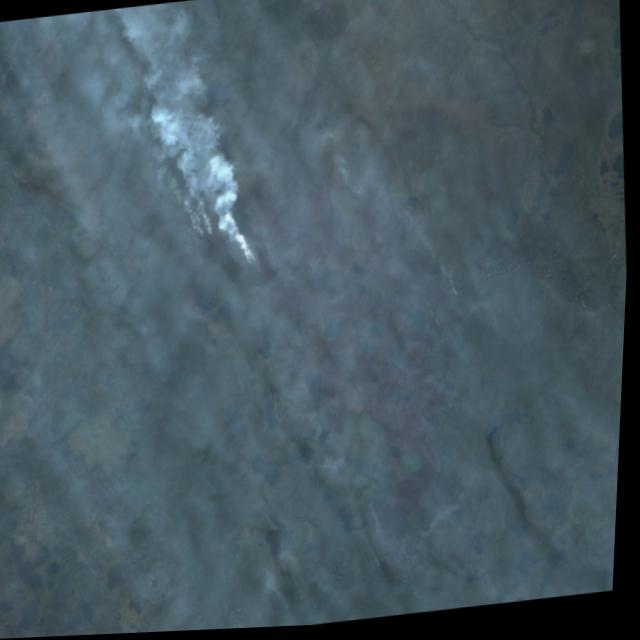fire: (188, 198, 272, 290)
